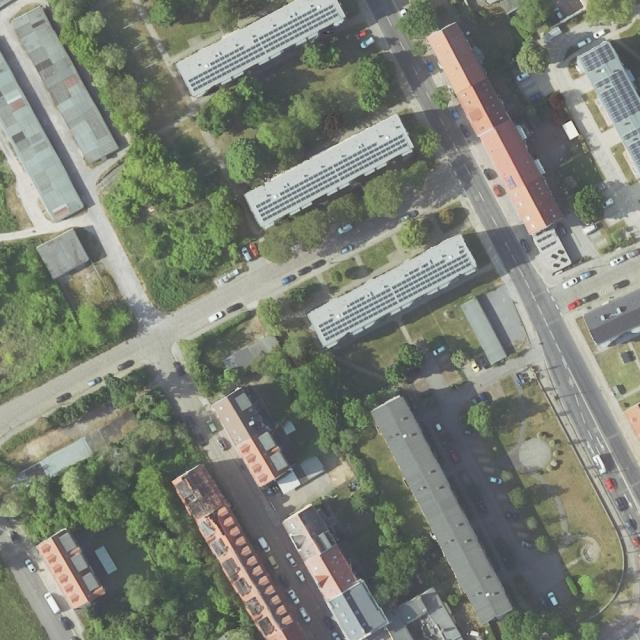PV: (317, 248, 473, 343), (188, 3, 341, 94), (254, 134, 410, 223), (593, 69, 640, 126), (580, 42, 618, 74), (620, 126, 640, 178)
